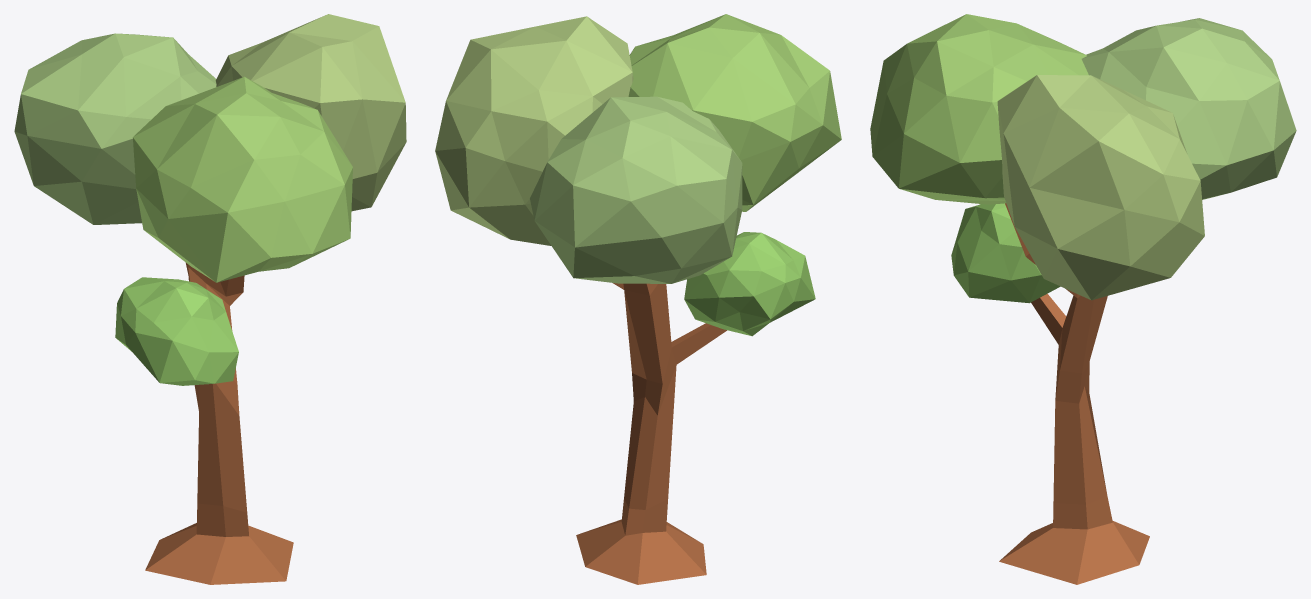
The model's file is Tree1.fbx.
3 renders of one model, left to right at view 1: azimuth 30°, elevation 25°; view 2: azimuth 150°, elevation 25°; view 3: azimuth 270°, elevation 25°, orthographic. The views are drawn at different scales.
Parts seen in each view (by area): view 1: Tree, Tree2; view 2: Tree, Tree2; view 3: Tree, Tree2.
Part boxes in pixels (x1=…): Tree: x1=14, y1=14, x2=406, y2=512; Tree2: x1=145, y1=503, x2=293, y2=584; Tree: x1=435, y1=14, x2=841, y2=509; Tree2: x1=576, y1=499, x2=706, y2=584; Tree: x1=870, y1=14, x2=1296, y2=504; Tree2: x1=999, y1=496, x2=1149, y2=584.
Bounding box in the file's own units: 407 × 620 × 466.
